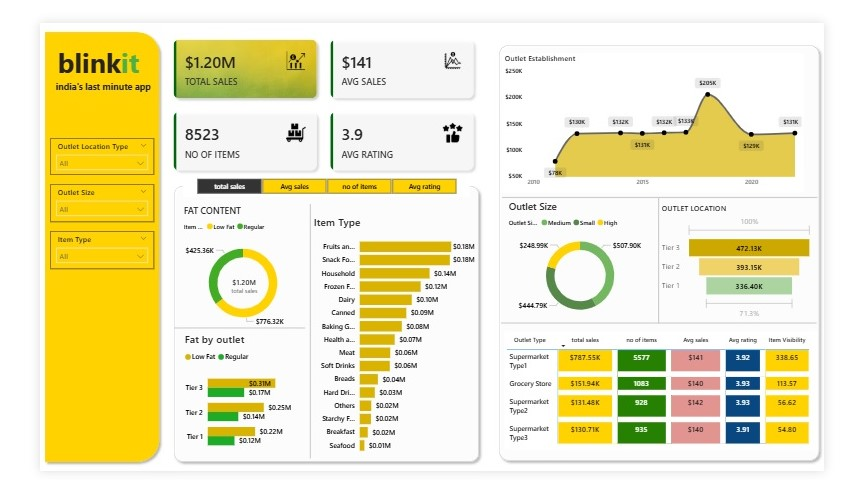

The dashboard page shown, as its layout file describes it:
{"tool":"powerbi","page":{"name":"Page 1","canvas":[1400,800],"ordinal":0},"visuals":[{"type":"shape","box":[0,6.3,222,785.8],"z":0},{"type":"textbox","box":[349.1,696.3,189.2,102.9],"z":1000},{"type":"textbox","box":[26.8,31.5,170.1,103.9],"z":2000},{"type":"textbox","box":[23.6,97.6,198.4,50.4],"z":3000},{"type":"cardVisual","fields":{"Data":["BlinkIT Grocery Data.total sales","BlinkIT Grocery Data.Avg sales","BlinkIT Grocery Data.no of items","BlinkIT Grocery Data.Avg rating"]},"box":[222,12.6,570.1,269.3],"z":4000},{"type":"shape","box":[229.9,281.9,562.2,510.2],"z":5000},{"type":"donutChart","title":"FAT CONTENT","fields":{"Y":["BlinkIT Grocery Data.total sales"],"Category":["BlinkIT Grocery Data.Item Fat Content"]},"box":[252.3,323.1,221.5,233.8],"z":6000},{"type":"slicer","fields":{"Values":["metrics.metrics"]},"box":[254.6,271.1,512.4,39.2],"z":7000},{"type":"cardVisual","fields":{"Data":["BlinkIT Grocery Data.total sales"]},"box":[283.5,412.6,162.2,113.4],"z":8000},{"type":"clusteredBarChart","title":"Fat by outlet","fields":{"Y":["BlinkIT Grocery Data.total sales"],"Category":["BlinkIT Grocery Data.Outlet Location Type"],"Series":["BlinkIT Grocery Data.Item Fat Content"]},"box":[252.9,551.5,216.2,226.5],"z":9000},{"type":"shape","box":[373.5,323.5,219.1,454.4],"z":10000},{"type":"shape","box":[239.7,526,234.2,35.6],"z":11000},{"type":"barChart","title":" Item Type","fields":{"Y":["BlinkIT Grocery Data.total sales"],"Category":["BlinkIT Grocery Data.Item Type"]},"box":[483.6,342.5,297.3,435.6],"z":12000},{"type":"shape","box":[810.3,30.9,589.7,760.3],"z":13000},{"type":"lineChart","title":" Outlet Establishment ","fields":{"Category":["BlinkIT Grocery Data.Outlet Establishment Year"],"Y":["BlinkIT Grocery Data.total sales"]},"box":[825.5,52.7,540,249.1],"z":14000},{"type":"shape","box":[825,294.1,563.2,33.8],"z":15000},{"type":"donutChart","title":"Outlet Size","fields":{"Y":["BlinkIT Grocery Data.total sales"],"Category":["BlinkIT Grocery Data.Outlet Size"]},"box":[832.3,313.8,264.6,223.1],"z":16000},{"type":"shape","box":[995.4,310.8,220,226.2],"z":17000},{"type":"funnel","title":"OUTLET LOCATION","fields":{"Y":["Sum(BlinkIT Grocery Data.Sales)"],"Category":["BlinkIT Grocery Data.Outlet Location Type"]},"box":[1104.6,321.5,278.5,210.8],"z":18000},{"type":"shape","box":[823.1,520,563.1,32.3],"z":19000},{"type":"pivotTable","fields":{"Rows":["BlinkIT Grocery Data.Outlet Type"],"Values":["BlinkIT Grocery Data.total sales","BlinkIT Grocery Data.no of items","BlinkIT Grocery Data.Avg sales","BlinkIT Grocery Data.Avg rating","Sum(BlinkIT Grocery Data.Item Visibility)"]},"box":[827.7,550.8,560,212.3],"z":20000},{"type":"slicer","fields":{"Values":["BlinkIT Grocery Data.Outlet Location Type"]},"box":[17.1,205.3,185.5,65.8],"z":21000},{"type":"slicer","fields":{"Values":["BlinkIT Grocery Data.Outlet Size"]},"box":[18.4,286.8,185.5,68.4],"z":22000},{"type":"slicer","fields":{"Values":["BlinkIT Grocery Data.Item Type"]},"box":[18.4,371.1,185.5,68.4],"z":23000}]}

Visuals, with their boxes in screenshot pixels (x1, y1, x2, y2), scaled from the page's 1400x800 canvas onto the 862x501 screenshot:
shape: x1=0 y1=4 x2=137 y2=496
textbox: x1=215 y1=436 x2=331 y2=500
textbox: x1=17 y1=20 x2=121 y2=85
textbox: x1=15 y1=61 x2=137 y2=93
cardVisual - BlinkIT Grocery Data.total sales x BlinkIT Grocery Data.Avg sales: x1=137 y1=8 x2=488 y2=177
shape: x1=142 y1=177 x2=488 y2=496
"FAT CONTENT" donutChart: x1=155 y1=202 x2=292 y2=349
slicer - metrics.metrics: x1=157 y1=170 x2=472 y2=194
cardVisual - BlinkIT Grocery Data.total sales: x1=175 y1=258 x2=274 y2=329
"Fat by outlet" clusteredBarChart: x1=156 y1=345 x2=289 y2=487
shape: x1=230 y1=203 x2=365 y2=487
shape: x1=148 y1=329 x2=292 y2=352
" Item Type" barChart: x1=298 y1=214 x2=481 y2=487
shape: x1=499 y1=19 x2=861 y2=495
" Outlet Establishment " lineChart: x1=508 y1=33 x2=841 y2=189
shape: x1=508 y1=184 x2=855 y2=205
"Outlet Size" donutChart: x1=512 y1=197 x2=675 y2=336
shape: x1=613 y1=195 x2=748 y2=336
"OUTLET LOCATION" funnel: x1=680 y1=201 x2=852 y2=333
shape: x1=507 y1=326 x2=854 y2=346
pivotTable - BlinkIT Grocery Data.Outlet Type x BlinkIT Grocery Data.total sales: x1=510 y1=345 x2=854 y2=478
slicer - BlinkIT Grocery Data.Outlet Location Type: x1=11 y1=129 x2=125 y2=170
slicer - BlinkIT Grocery Data.Outlet Size: x1=11 y1=180 x2=126 y2=222
slicer - BlinkIT Grocery Data.Item Type: x1=11 y1=232 x2=126 y2=275
